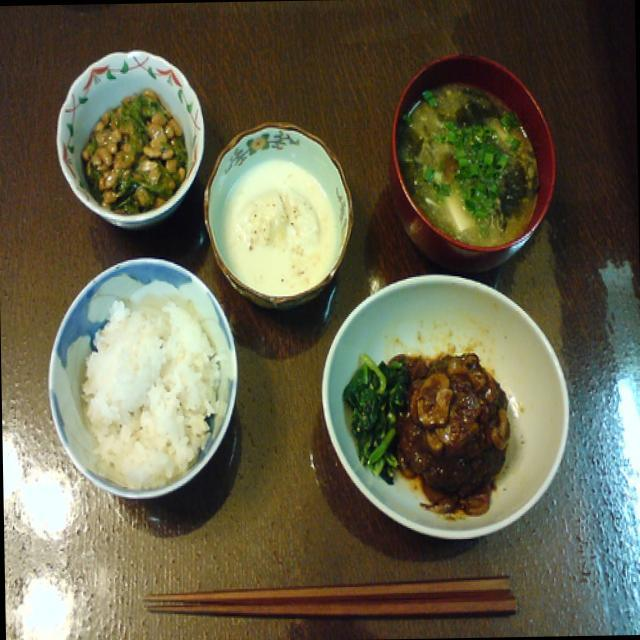Rice: (64, 275, 232, 476)
